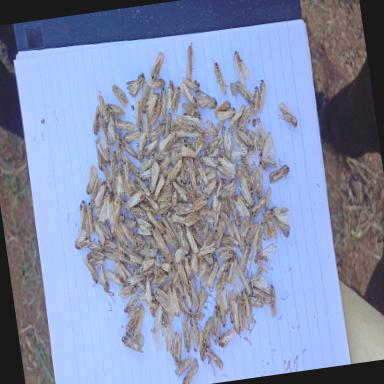pbw: (255, 130, 278, 172), (185, 303, 204, 352), (151, 225, 173, 266), (244, 264, 270, 297), (269, 204, 292, 240), (97, 262, 116, 304), (265, 154, 291, 184), (196, 260, 222, 290), (106, 195, 126, 234), (232, 47, 251, 85), (154, 122, 178, 152), (232, 259, 252, 295), (128, 302, 148, 337), (207, 305, 224, 346), (275, 99, 298, 129), (128, 94, 146, 132), (96, 191, 116, 225), (204, 344, 224, 378), (164, 278, 180, 320), (170, 110, 198, 134), (200, 315, 218, 352), (212, 59, 230, 96), (250, 159, 266, 200), (123, 71, 147, 98), (81, 252, 99, 288), (178, 356, 201, 384), (232, 78, 254, 107), (220, 124, 237, 160), (110, 81, 130, 111), (147, 50, 167, 80), (202, 130, 226, 155), (248, 193, 269, 221), (121, 150, 142, 178), (122, 306, 142, 335), (178, 79, 198, 108), (118, 219, 138, 248), (133, 128, 150, 162), (170, 330, 187, 364), (86, 176, 104, 208), (82, 162, 100, 194), (226, 192, 242, 228), (180, 44, 196, 80), (254, 77, 270, 113), (201, 115, 226, 138), (154, 182, 176, 208), (231, 189, 250, 219), (146, 208, 166, 236), (253, 119, 268, 156), (194, 86, 217, 110), (195, 232, 218, 256), (121, 332, 146, 354), (212, 214, 228, 248), (96, 132, 112, 166), (146, 96, 164, 126), (228, 103, 248, 130), (212, 292, 227, 328), (162, 322, 176, 360), (152, 284, 171, 312), (250, 284, 272, 308), (254, 242, 278, 264), (146, 160, 162, 193), (166, 84, 184, 113), (148, 116, 168, 142), (216, 150, 236, 176), (133, 174, 152, 201), (104, 150, 120, 182), (75, 198, 90, 232), (216, 324, 237, 348), (186, 276, 200, 312), (128, 265, 146, 293), (213, 258, 234, 282), (144, 232, 164, 257), (102, 115, 118, 146), (239, 152, 254, 185), (161, 226, 180, 252), (180, 100, 202, 122), (172, 354, 194, 376), (197, 146, 219, 168), (220, 230, 240, 254), (175, 260, 190, 292), (175, 288, 190, 320), (264, 206, 278, 240), (95, 89, 109, 123), (236, 244, 253, 272), (235, 127, 254, 152), (157, 85, 170, 121), (180, 314, 192, 353), (230, 299, 242, 338), (196, 325, 208, 364), (104, 266, 125, 288), (141, 136, 162, 158), (72, 227, 92, 250), (111, 257, 128, 284), (119, 137, 138, 161), (100, 160, 113, 195), (226, 288, 239, 323), (247, 86, 262, 116), (91, 216, 106, 246), (88, 104, 103, 134), (194, 159, 210, 187), (193, 286, 209, 314), (184, 157, 198, 189), (166, 136, 188, 156), (138, 82, 152, 113), (162, 78, 176, 109), (121, 292, 139, 316), (236, 296, 248, 332), (184, 222, 198, 252), (134, 215, 153, 237), (112, 222, 128, 248), (150, 302, 166, 328), (166, 158, 184, 181), (266, 283, 278, 317), (98, 112, 110, 146), (240, 288, 252, 322), (253, 254, 273, 274), (126, 188, 146, 208), (192, 258, 210, 280), (112, 128, 124, 160), (176, 222, 188, 254), (180, 73, 200, 92), (201, 177, 220, 197), (114, 116, 135, 134), (172, 179, 189, 201), (144, 90, 161, 112), (220, 178, 238, 198), (190, 193, 210, 211), (215, 244, 239, 259), (136, 198, 156, 216), (116, 283, 138, 299), (86, 200, 96, 235), (172, 200, 195, 215), (86, 249, 106, 266), (94, 138, 104, 172), (105, 100, 125, 117), (150, 326, 163, 352), (260, 212, 272, 240), (214, 106, 236, 121), (236, 216, 251, 238), (142, 112, 153, 142), (183, 209, 201, 227), (138, 242, 158, 258), (86, 238, 106, 254), (199, 219, 211, 245), (129, 204, 148, 220), (142, 274, 152, 304), (131, 226, 146, 246), (155, 200, 173, 216), (178, 142, 196, 158), (126, 271, 146, 285), (150, 146, 170, 160), (122, 129, 141, 143), (136, 289, 155, 303), (262, 185, 274, 207), (247, 294, 263, 310), (82, 210, 91, 238), (212, 100, 231, 113), (146, 76, 166, 88), (140, 256, 157, 270), (123, 213, 137, 230), (187, 251, 198, 272), (128, 250, 142, 266), (141, 297, 158, 310), (170, 211, 185, 225), (202, 252, 214, 268), (120, 196, 130, 213), (158, 262, 170, 272)
